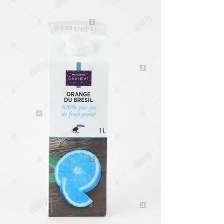carton: (43, 18, 110, 219)
